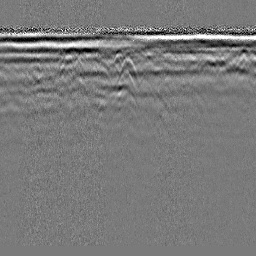cavity: (118, 55, 138, 80)
